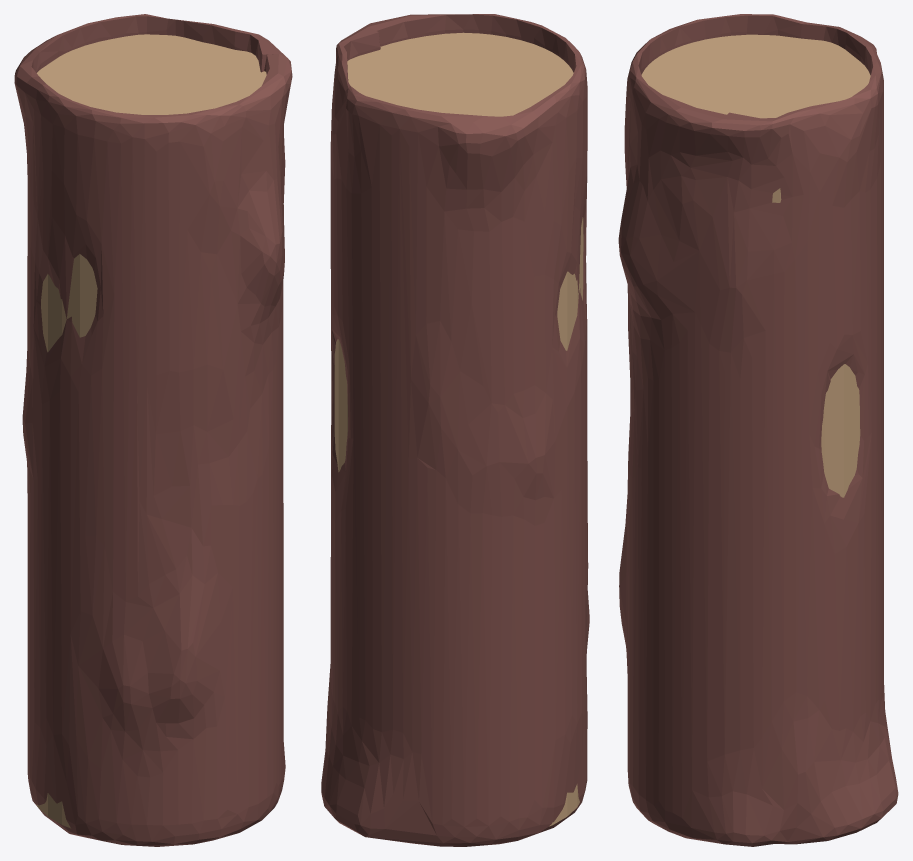
File: log.fbx
3 views of the same model, side by side, from view 1: azimuth 30°, elevation 25°; view 2: azimuth 150°, elevation 25°; view 3: azimuth 270°, elevation 25° (orthographic).
Visible parts, largest first — view 1: Cylinder.001; view 2: Cylinder.001; view 3: Cylinder.001.
Part boxes in pixels (x1=…): Cylinder.001: x1=14, y1=14, x2=292, y2=846; Cylinder.001: x1=321, y1=14, x2=589, y2=846; Cylinder.001: x1=618, y1=14, x2=898, y2=846.
Bounding box in the file's own units: 97.82 × 301 × 104.
